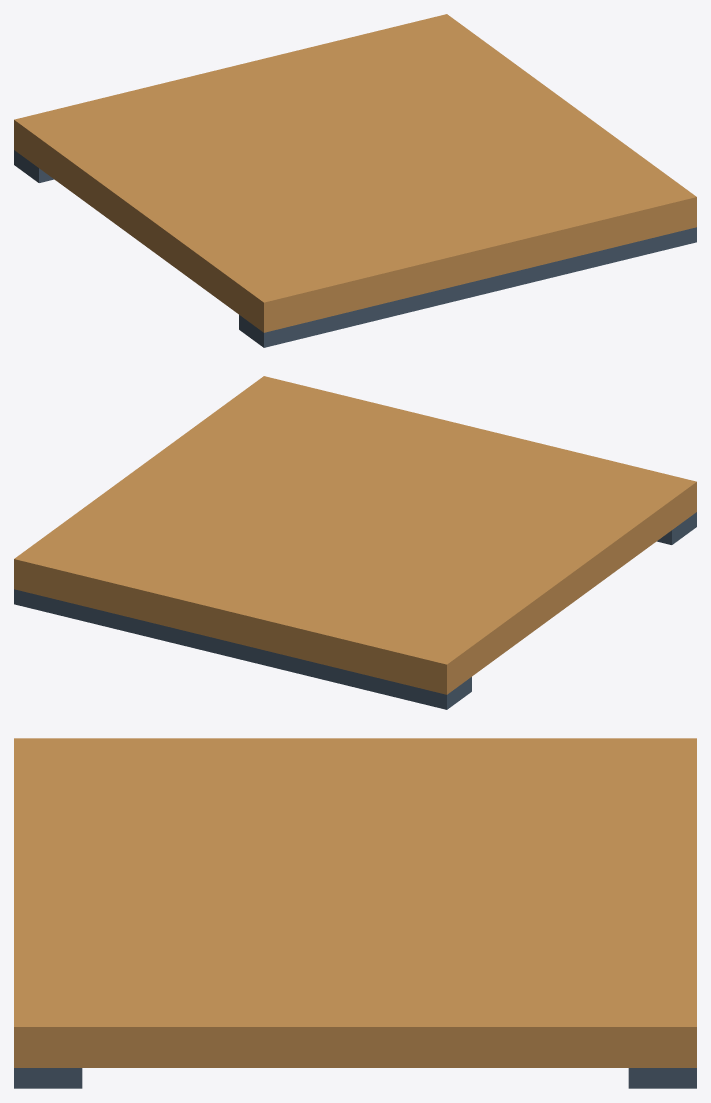
File: transfer.glb
The picture shows the model from 3 angles, top to bottom: view 1: azimuth 30°, elevation 25°; view 2: azimuth 150°, elevation 25°; view 3: azimuth 270°, elevation 25°; orthographic projection. The views are drawn at different scales.
Parts seen in each view (by area): view 1: Shelf, Rail_A, Rail_B; view 2: Shelf, Rail_B, Rail_A; view 3: Shelf, Rail_A, Rail_B.
Boxes of the visible parts, x1=… form: Shelf: x1=14, y1=14, x2=696, y2=332; Rail_A: x1=239, y1=227, x2=696, y2=347; Rail_B: x1=14, y1=150, x2=53, y2=182; Shelf: x1=14, y1=376, x2=696, y2=694; Rail_B: x1=14, y1=589, x2=471, y2=709; Rail_A: x1=657, y1=512, x2=696, y2=544; Shelf: x1=14, y1=738, x2=696, y2=1067; Rail_A: x1=14, y1=1068, x2=82, y2=1088; Rail_B: x1=628, y1=1068, x2=696, y2=1088.
Bounding box in the file's own units: 0.3 × 0.03 × 0.3.
